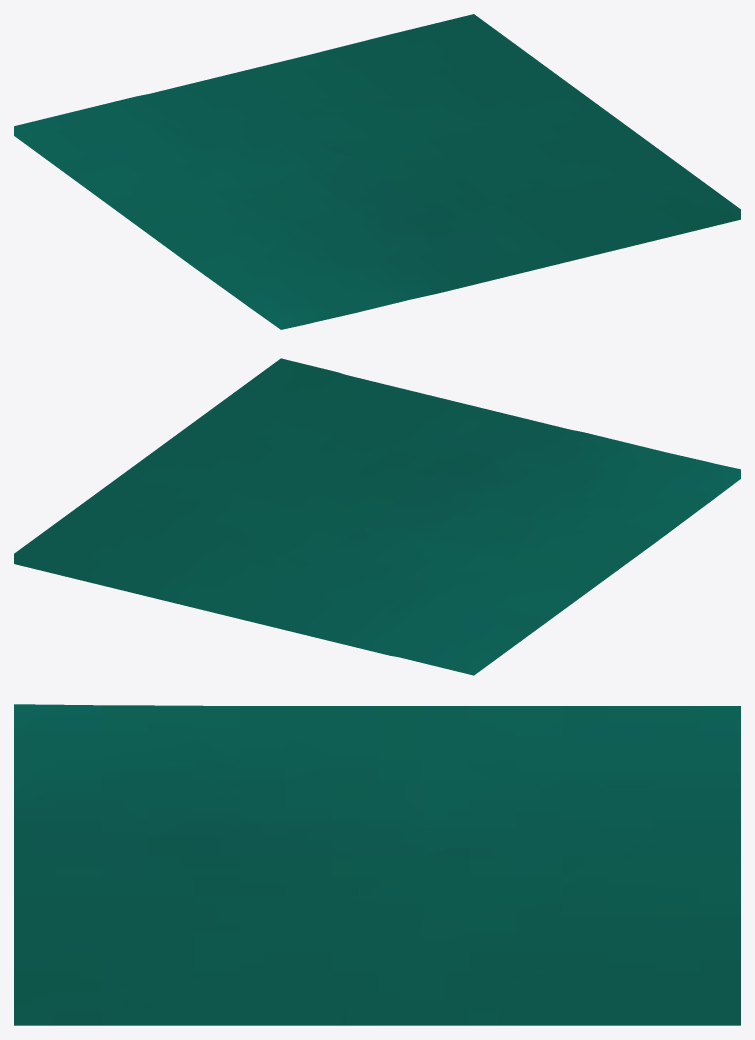
The model's file is z17-20945-50645-h0-yup-uvflip-v3-world.glb.
3 views of the same model, one above another, from view 1: azimuth 30°, elevation 25°; view 2: azimuth 150°, elevation 25°; view 3: azimuth 270°, elevation 25° (orthographic). The views are drawn at different scales.
Size of the model in its own units: 241 by 5.76 by 243.
1 material, 1 textured.
